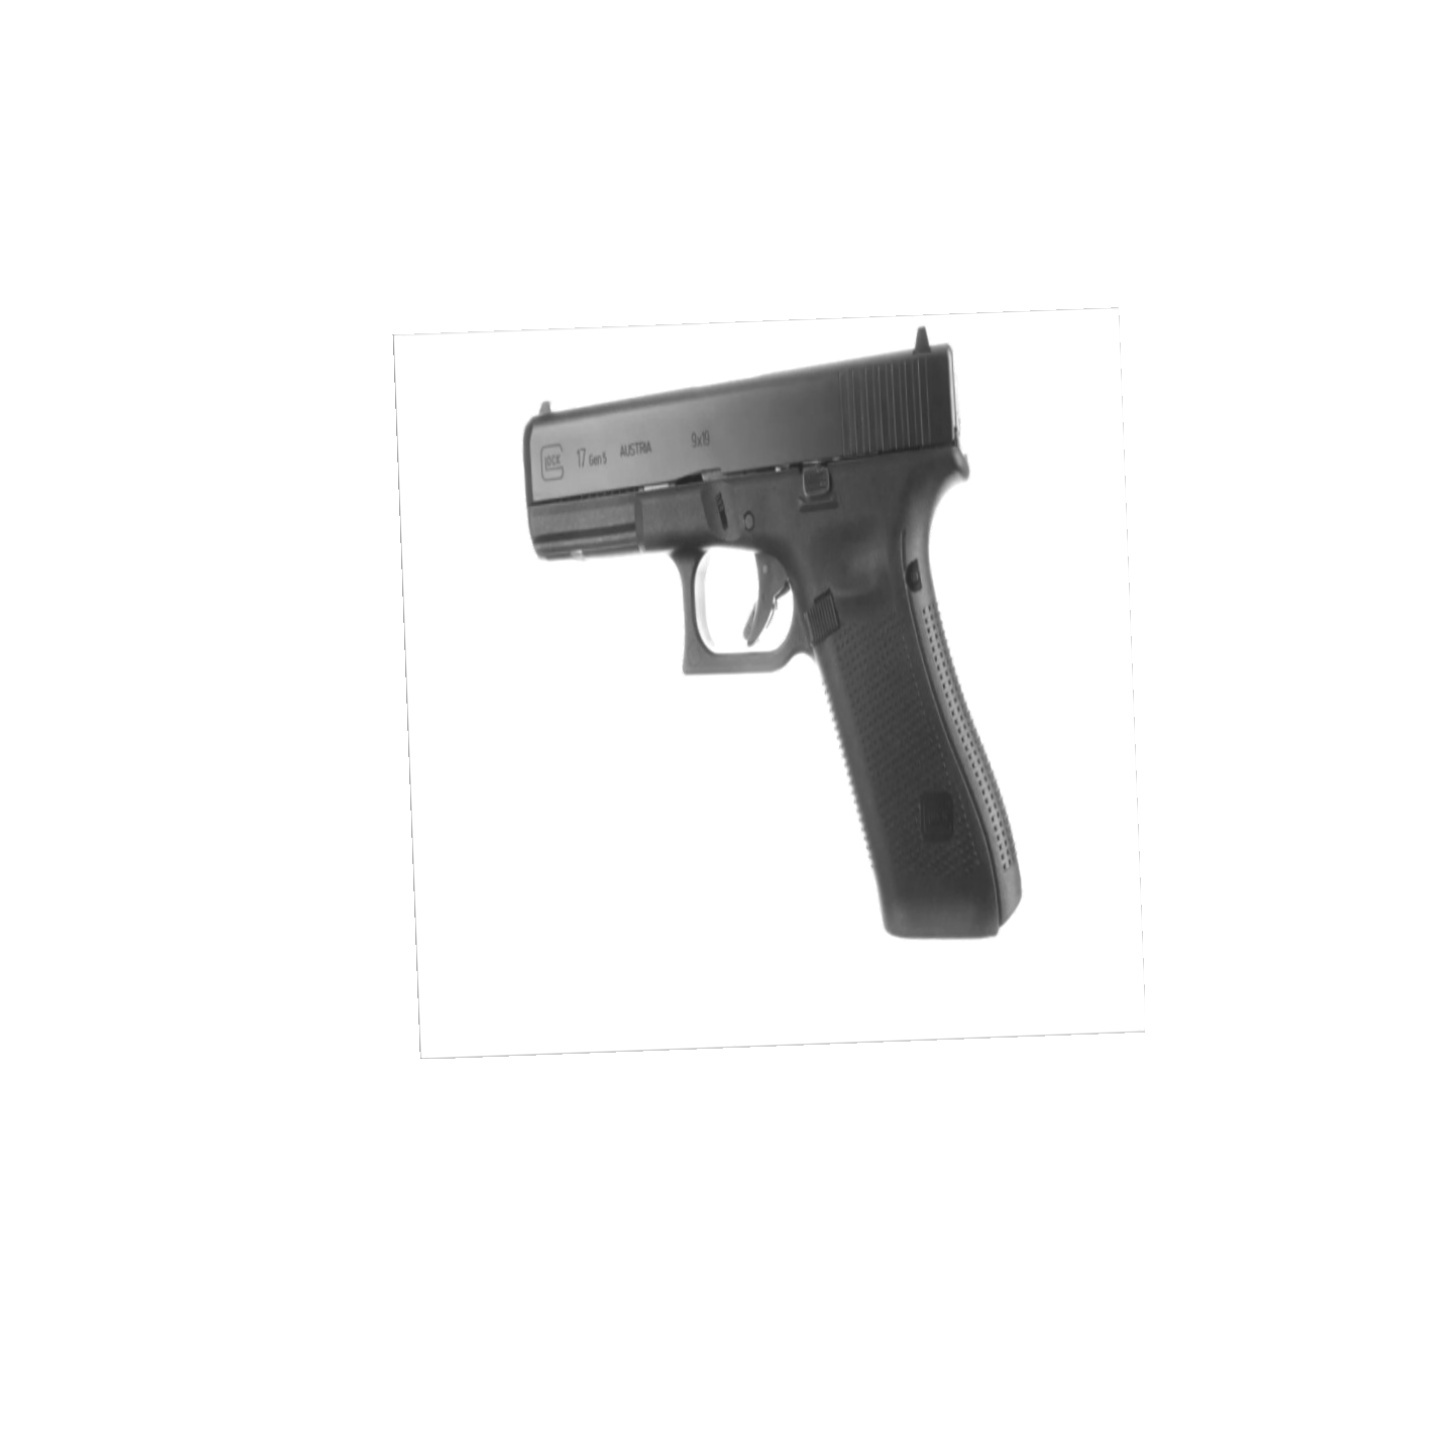gun: (489, 323, 1050, 957)
